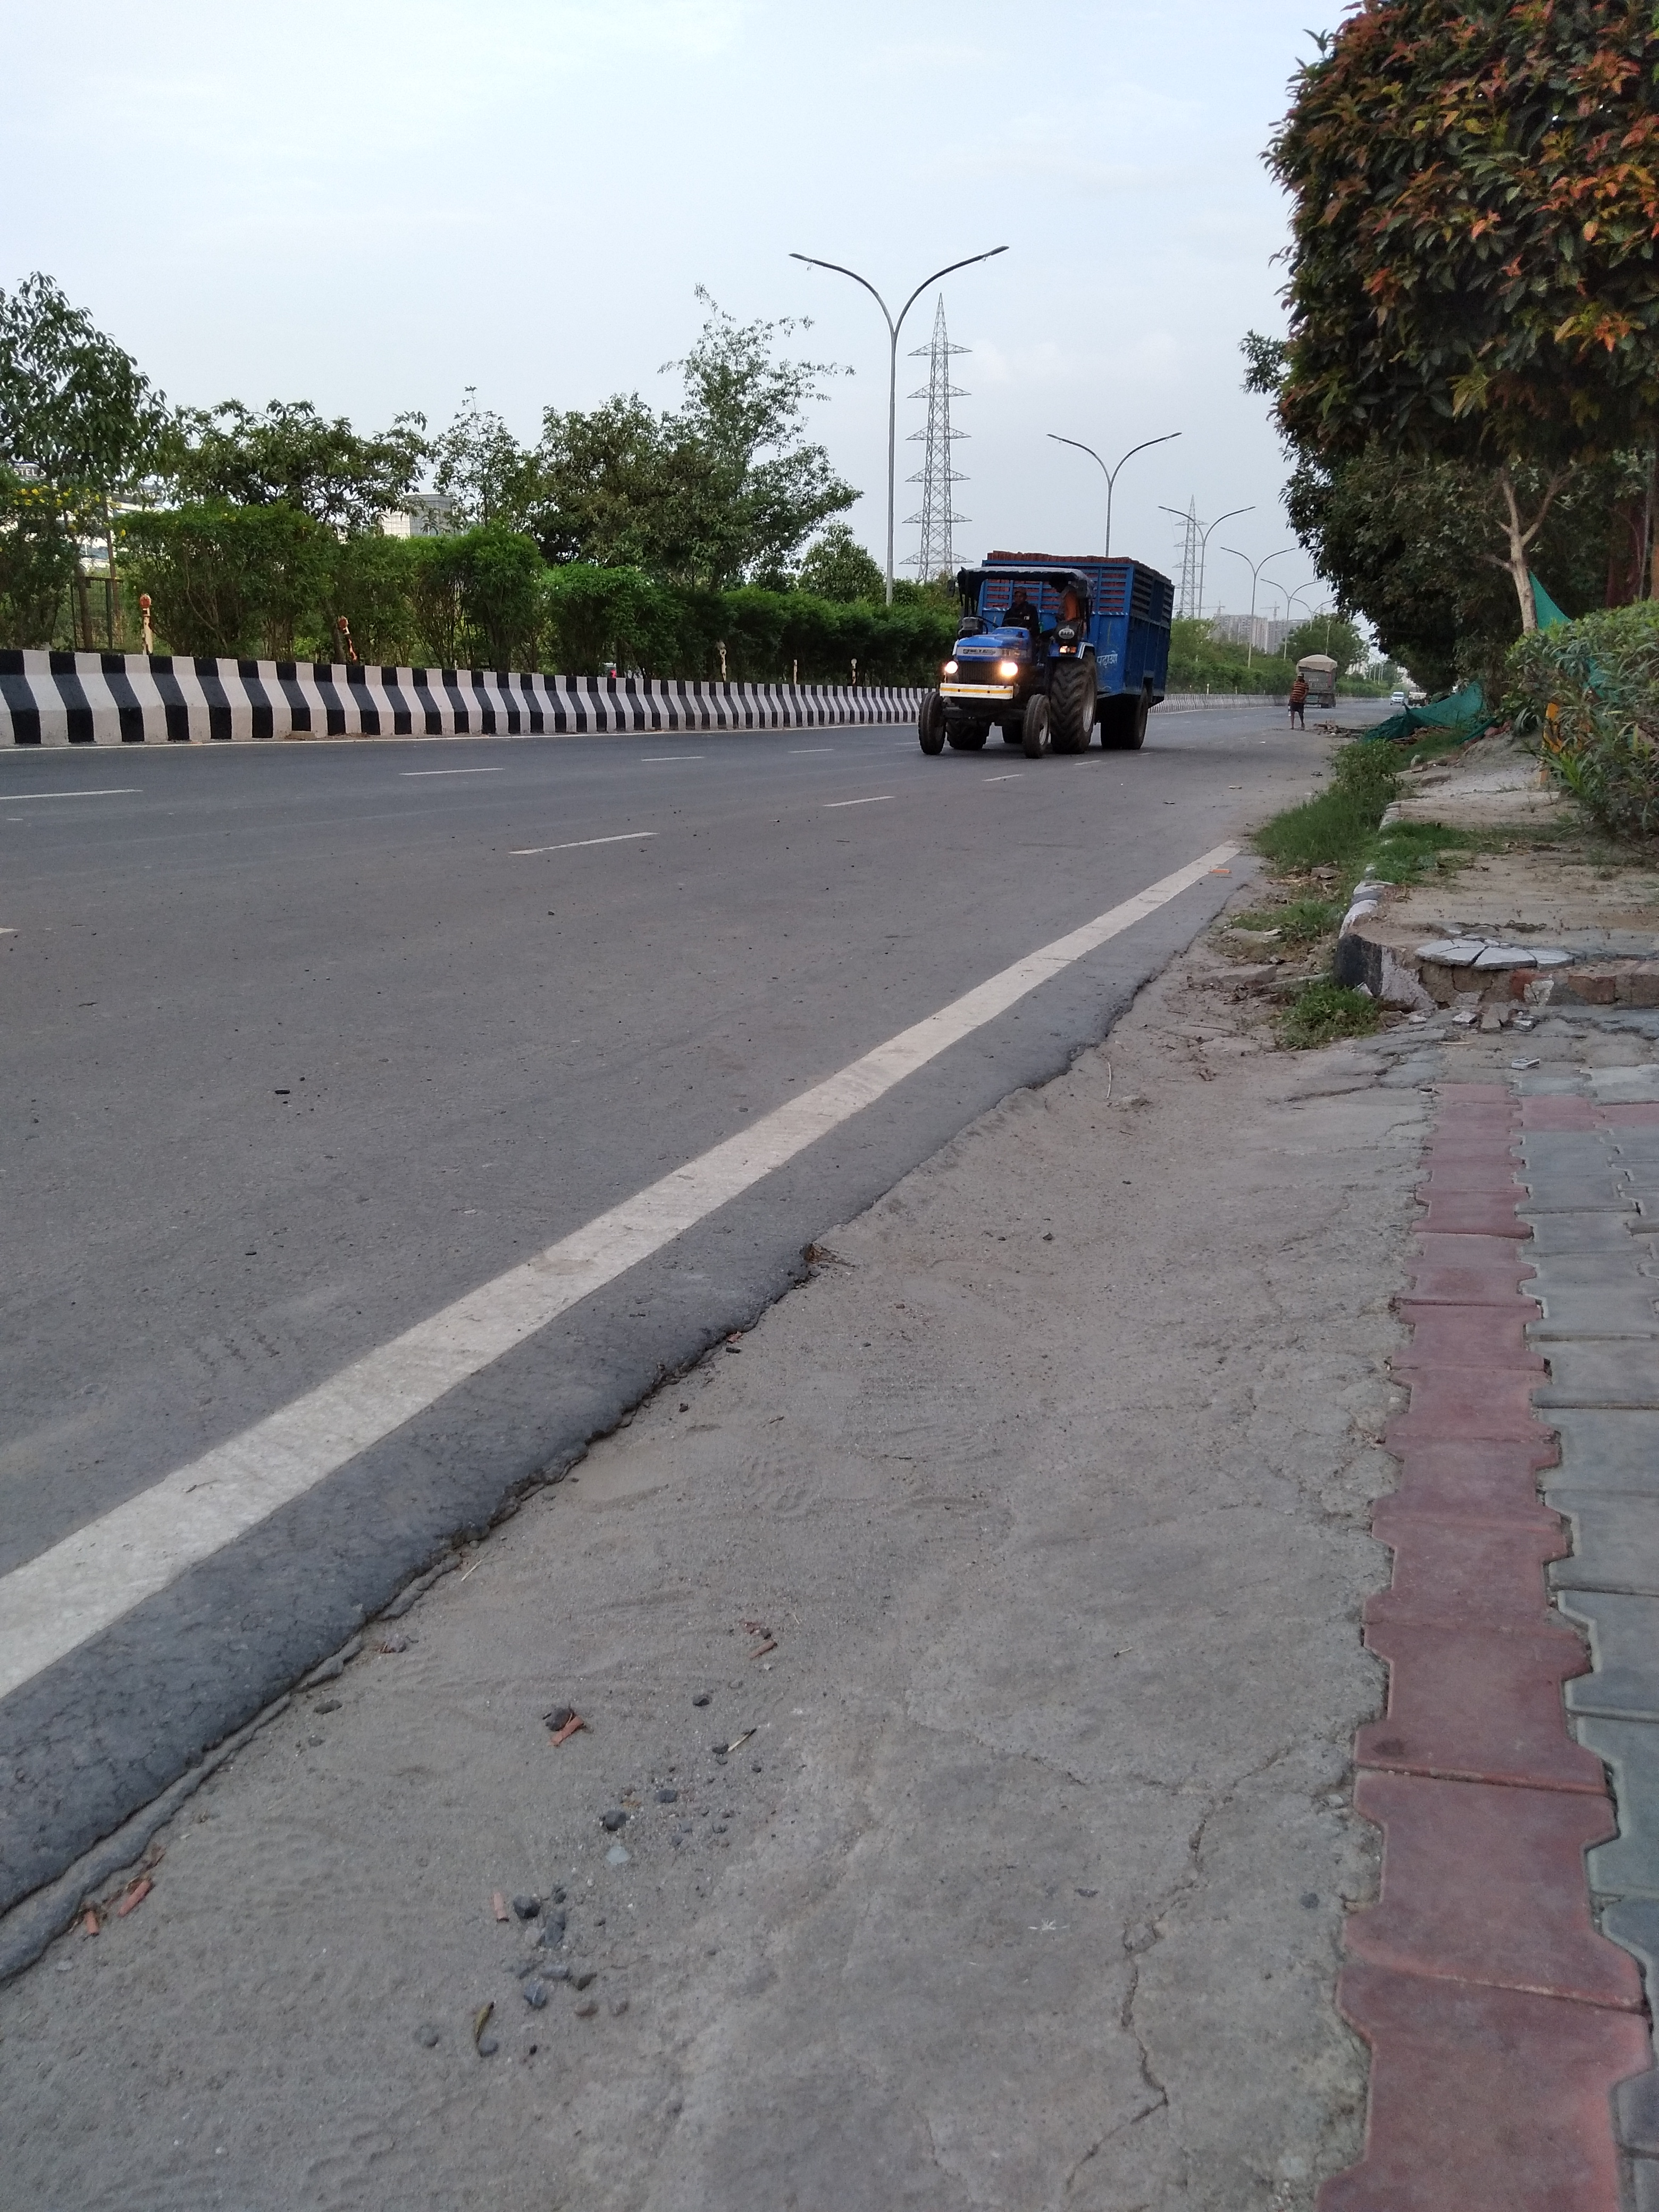tractor: (915, 545, 1176, 761)
